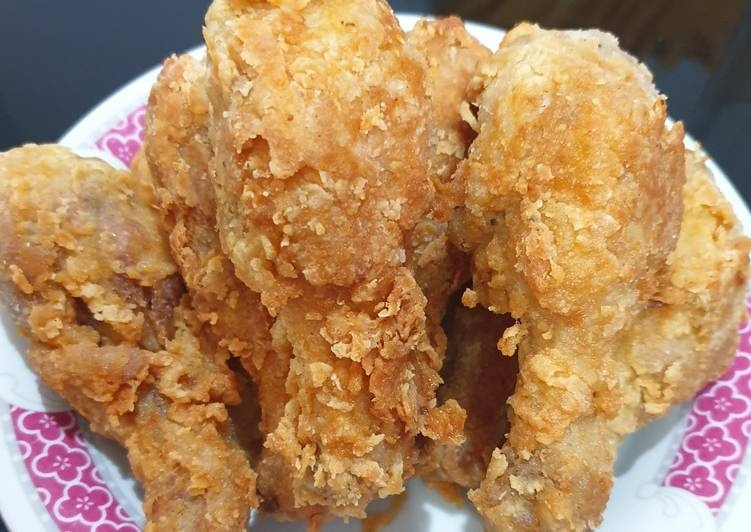ayam_goreng: (195, 1, 456, 514), (470, 13, 686, 531)
